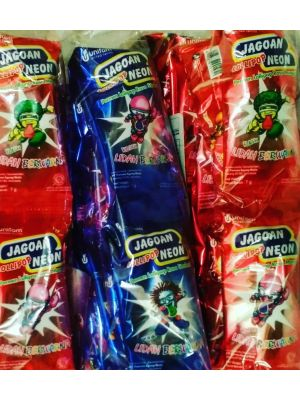jagoan_neon: (71, 46, 189, 208), (119, 201, 210, 370), (214, 198, 300, 368), (223, 30, 300, 199), (1, 35, 74, 213), (1, 212, 75, 370)
